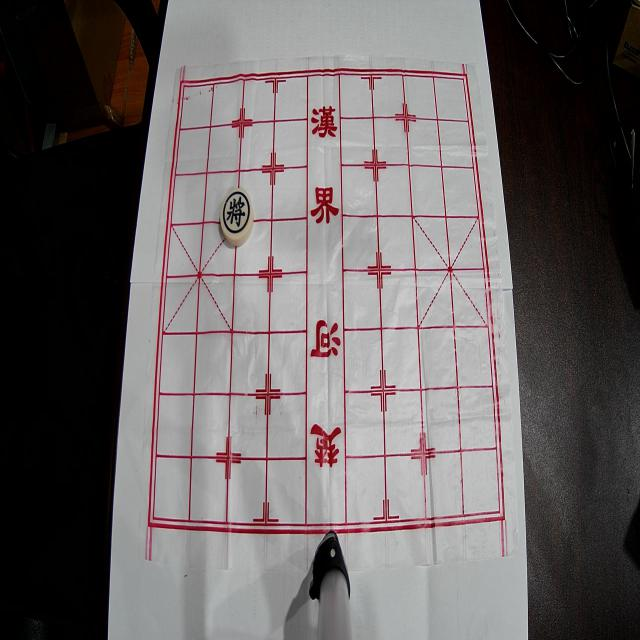black-general: (220, 188, 253, 246)
